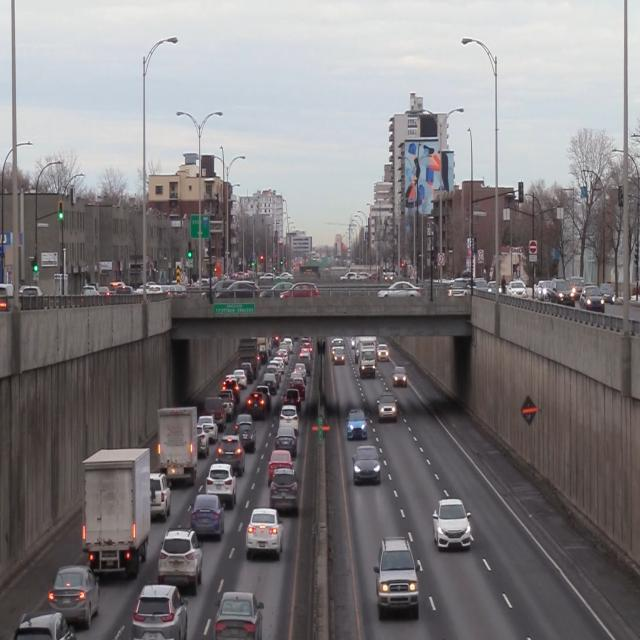Car: (83, 447, 151, 583), (373, 534, 419, 616), (154, 405, 200, 487), (47, 566, 101, 629), (133, 583, 190, 640), (158, 525, 203, 596), (432, 495, 472, 554), (214, 592, 263, 640), (244, 507, 286, 560), (190, 492, 226, 539), (203, 464, 238, 509), (269, 468, 298, 514), (351, 442, 381, 486), (145, 472, 169, 522), (216, 436, 244, 474), (266, 448, 292, 485), (345, 408, 368, 442), (377, 391, 398, 422)
